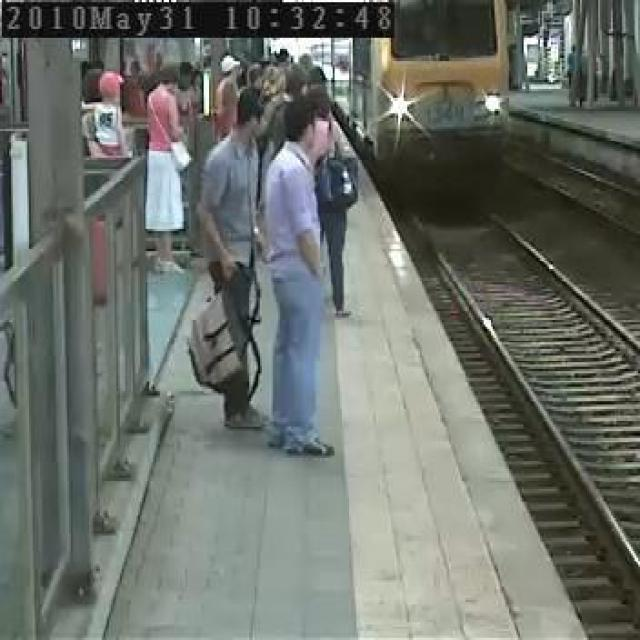other: (368, 86, 442, 133), (473, 90, 508, 124)
